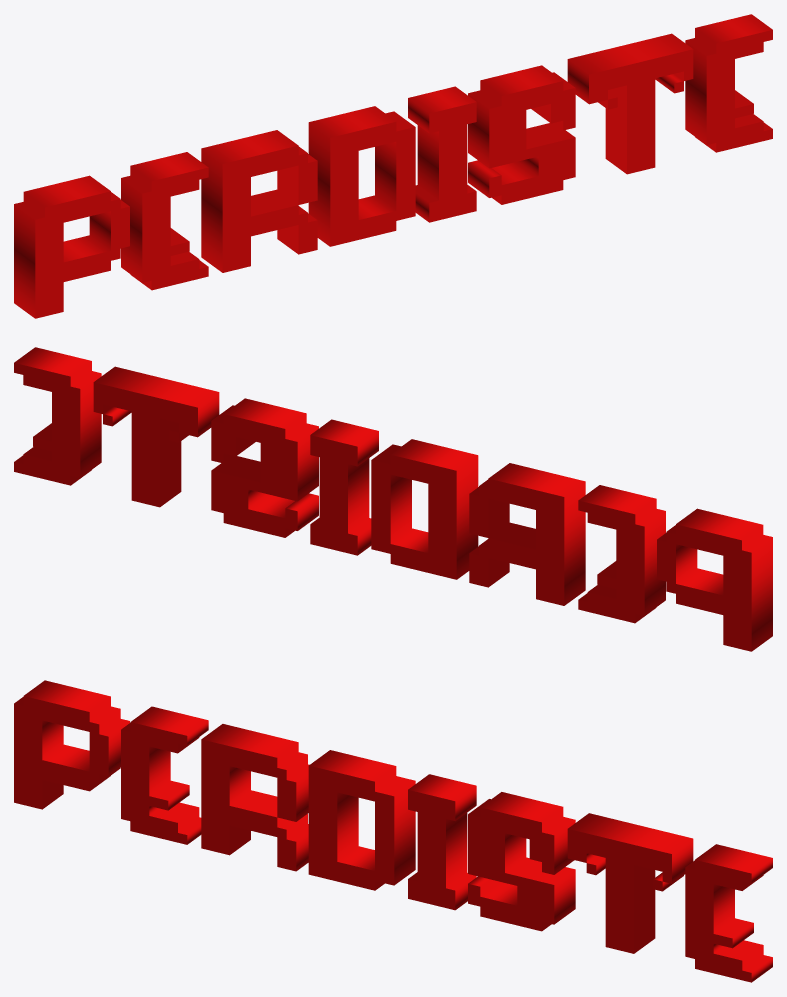
The model's file is perdiste.glb.
3 views of the same model, one above another, from view 1: azimuth 30°, elevation 25°; view 2: azimuth 150°, elevation 25°; view 3: azimuth 330°, elevation 25° (orthographic).
Parts seen in each view (by area): view 1: Text; view 2: Text; view 3: Text.
Boxes of the visible parts, x1,y1,x2,y2 form: Text: (14, 14, 772, 318); Text: (14, 347, 772, 651); Text: (14, 680, 772, 982).
Size of the model in its own units: 5.19 by 0.7333 by 0.26.
